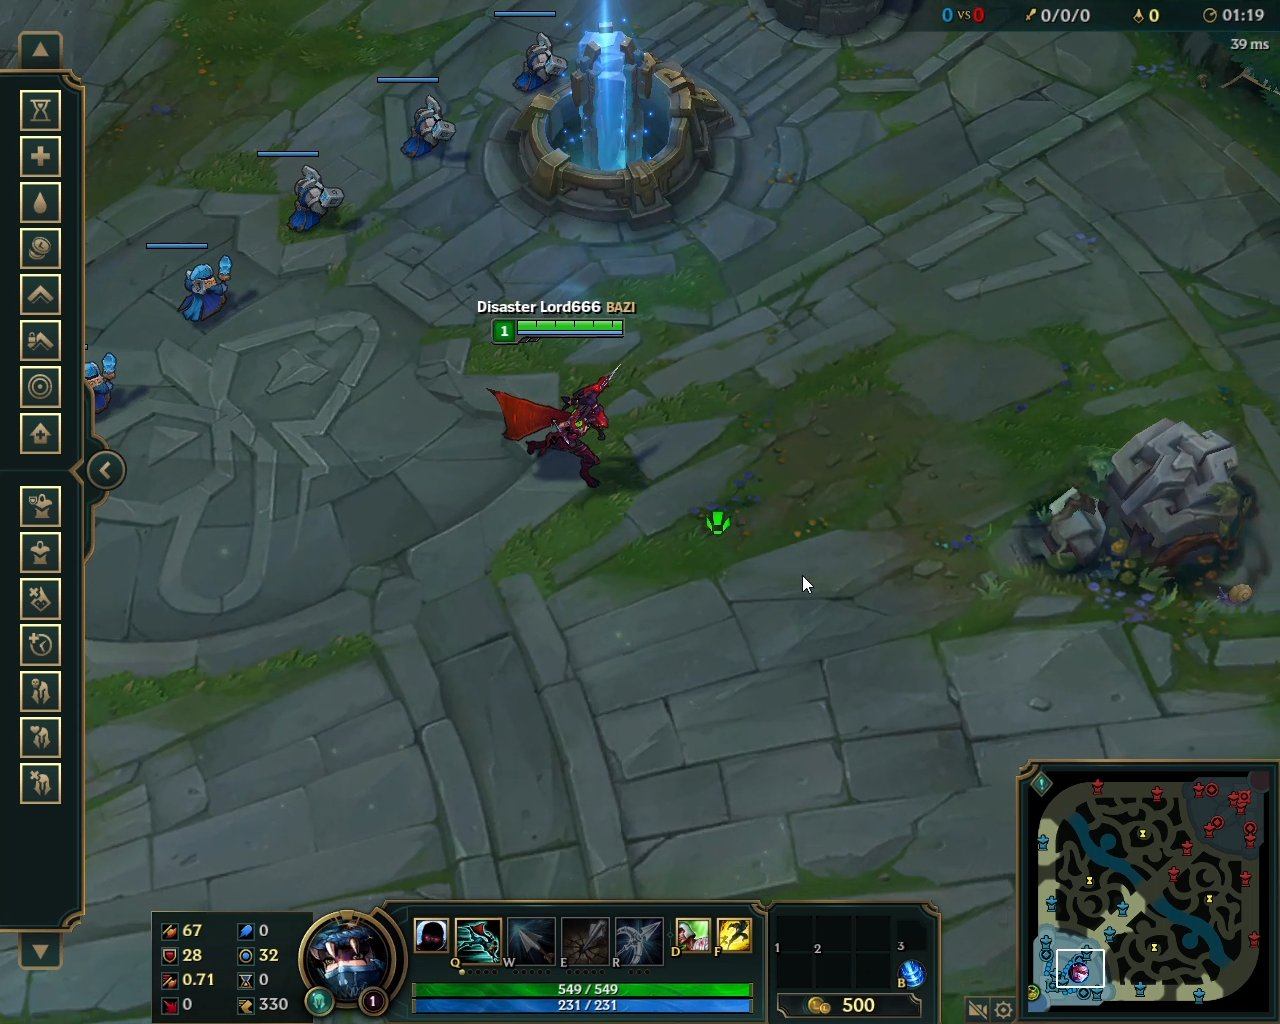Vayne: (481, 360, 632, 494)
